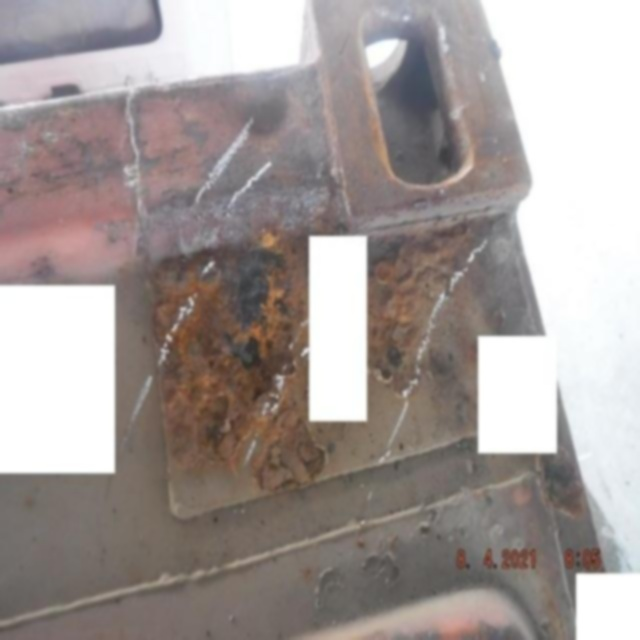Rusty: (154, 239, 302, 464), (374, 227, 468, 392), (253, 414, 336, 499), (536, 450, 584, 513)
